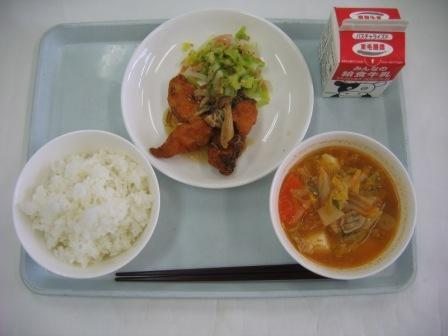Fish: (147, 94, 268, 176), (191, 28, 286, 101)
Milk: (311, 5, 420, 114)
Rice: (15, 140, 162, 281)
vegetable soup: (273, 144, 419, 278)
